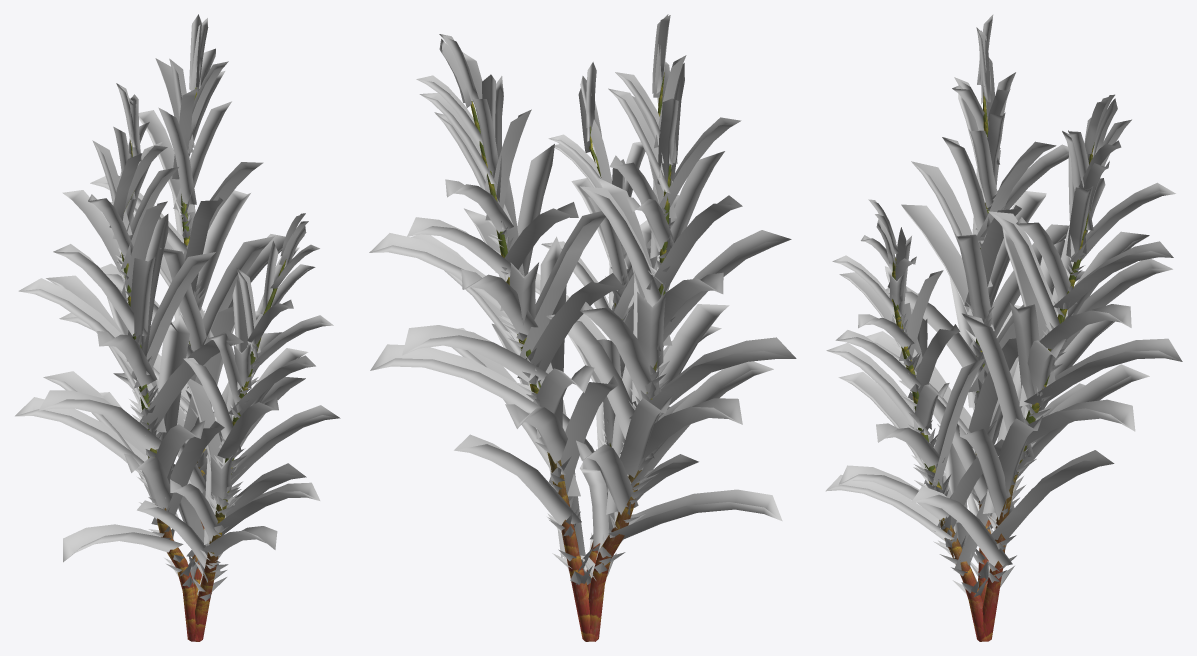
Rendered from Plant5_2_L1.fbx.
3 views of the same model, side by side, from view 1: azimuth 30°, elevation 25°; view 2: azimuth 150°, elevation 25°; view 3: azimuth 270°, elevation 25° (orthographic). The views are drawn at different scales.
Parts seen in each view (by area): view 1: polySurface17; view 2: polySurface17; view 3: polySurface17.
Boxes of the visible parts, box(x1,y1,x2,y2) form: polySurface17: box(15, 14, 340, 641); polySurface17: box(369, 14, 796, 641); polySurface17: box(825, 14, 1182, 641).
Bounding box in the file's own units: 319 × 565 × 312.
